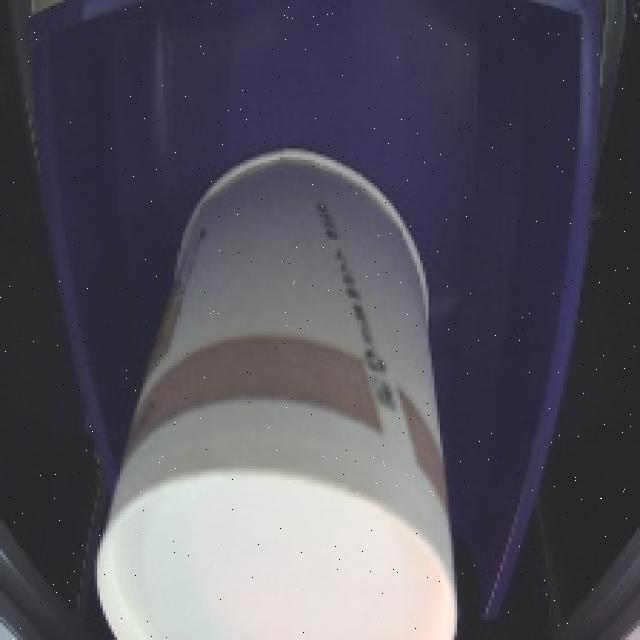cups: (79, 138, 470, 640)
